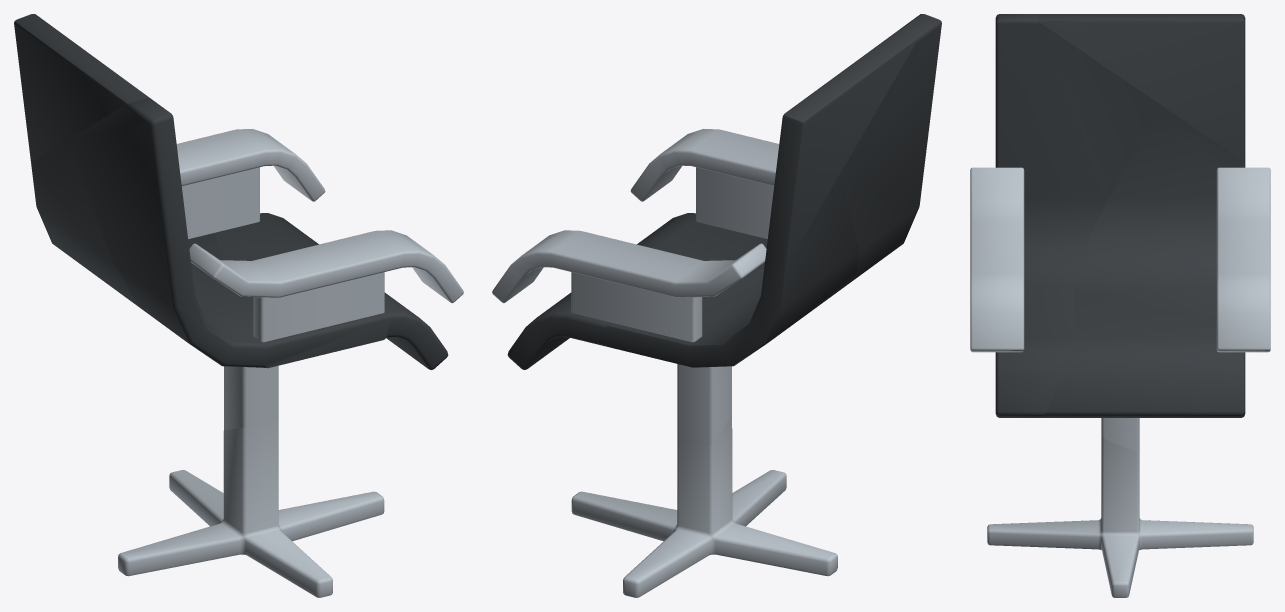
File: Sandalye_Broken.fbx
The picture shows the model from 3 angles, left to right: view 1: azimuth 30°, elevation 25°; view 2: azimuth 150°, elevation 25°; view 3: azimuth 270°, elevation 25°; orthographic projection. The views are drawn at different scales.
Visible parts, largest first — view 1: PCChair.001, PCChair.007, PCChair.003, PCChair.004, PCChair.009, PCChair.002, PCChair.008, PCChair.005, PCChair.006; view 2: PCChair.007, PCChair.001, PCChair.009, PCChair.004, PCChair.002, PCChair.003, PCChair.008, PCChair.005, PCChair.006; view 3: PCChair.001, PCChair.009, PCChair.005, PCChair.004, PCChair.007, PCChair.002, PCChair.003, PCChair.006.
Part boxes in pixels (x1,y1,x2,y2): PCChair.001: [69, 98, 448, 369]; PCChair.007: [118, 419, 384, 597]; PCChair.003: [189, 230, 463, 342]; PCChair.004: [14, 14, 149, 162]; PCChair.009: [31, 139, 241, 312]; PCChair.002: [176, 129, 325, 201]; PCChair.008: [182, 167, 259, 238]; PCChair.005: [214, 213, 404, 351]; PCChair.006: [224, 365, 278, 430]; PCChair.007: [571, 415, 837, 597]; PCChair.001: [637, 14, 941, 278]; PCChair.009: [606, 174, 859, 367]; PCChair.004: [765, 29, 916, 265]; PCChair.002: [492, 230, 766, 303]; PCChair.003: [630, 129, 779, 238]; PCChair.008: [571, 272, 702, 342]; PCChair.005: [507, 243, 763, 369]; PCChair.006: [677, 364, 731, 445]; PCChair.001: [995, 14, 1161, 417]; PCChair.009: [1074, 106, 1245, 316]; PCChair.005: [1039, 294, 1245, 417]; PCChair.004: [1037, 14, 1245, 160]; PCChair.007: [987, 436, 1253, 597]; PCChair.002: [1216, 167, 1270, 352]; PCChair.003: [970, 167, 1024, 352]; PCChair.006: [1101, 418, 1139, 452].
Bounding box in the file's own units: 194 × 320 × 190.
